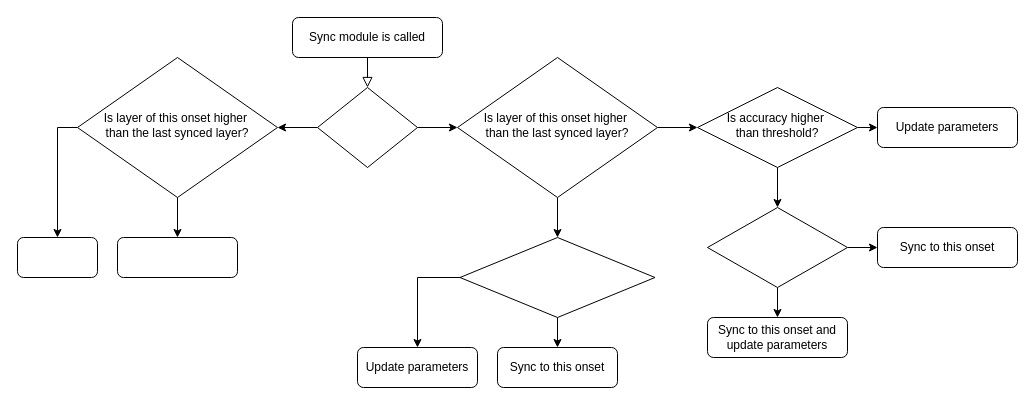
This 1035x405 diagram has some shape labels left out. The shapes that lost their labels are listed below. From the top down, each one's centre as x and y in pixels, then its label:
At (x=367, y=127): "Is there an onset?".
At (x=57, y=257): "Do nothing".
At (x=177, y=257): "Decrease last synced layer".
At (x=777, y=247): "Is accuracy higher than headroom?".
At (x=557, y=277): "Is accuracy higher than last synced accuracy?".
